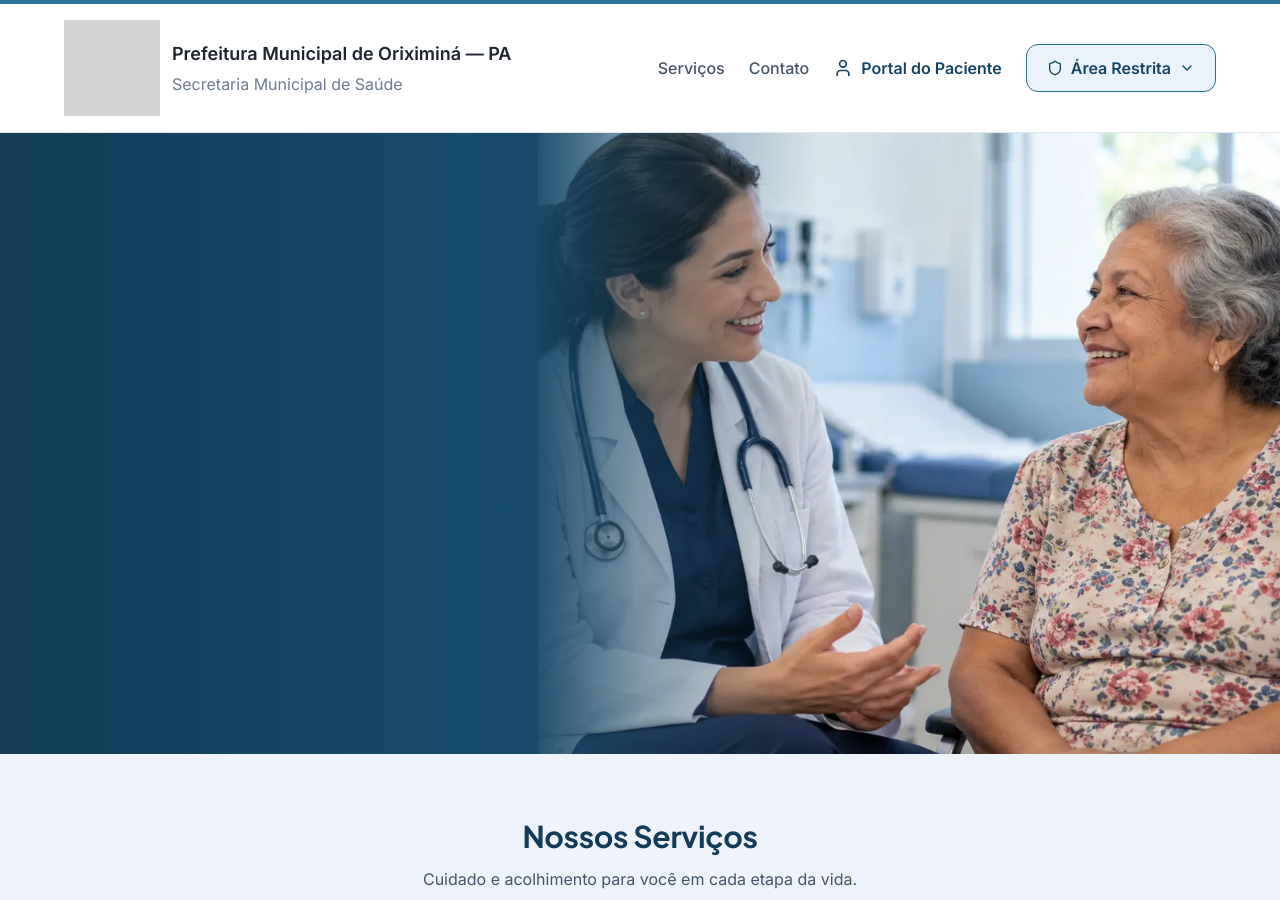
Scenario: Home navigation › opens restricted access and preserves both professional destinations
Press ArrowDown in the button "Área Restrita", box x1=1026 y1=44 x2=1216 y2=92
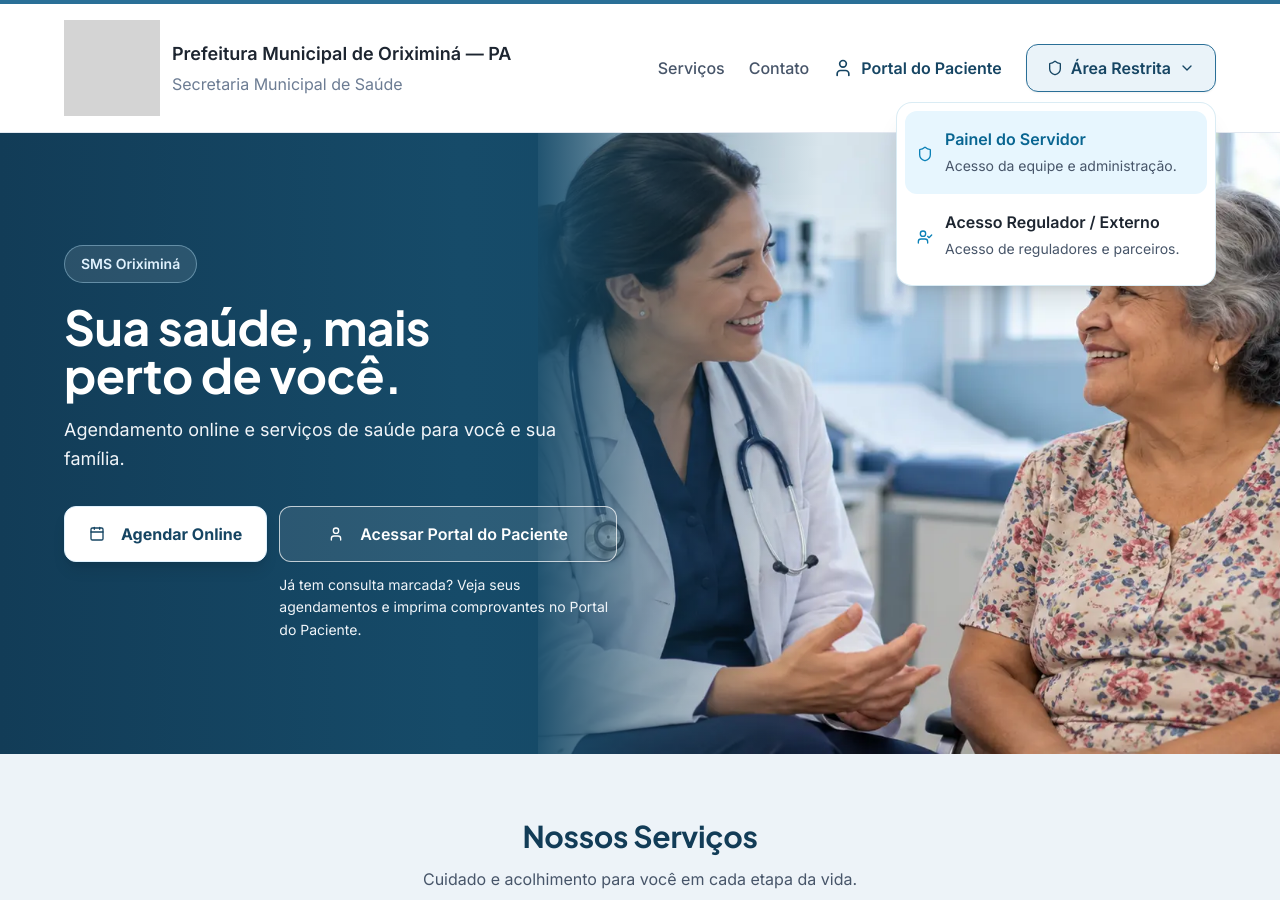
Click the menu item "Painel do Servidor".
click(1015, 139)  # box x1=905 y1=111 x2=1207 y2=194
(page scrolled)
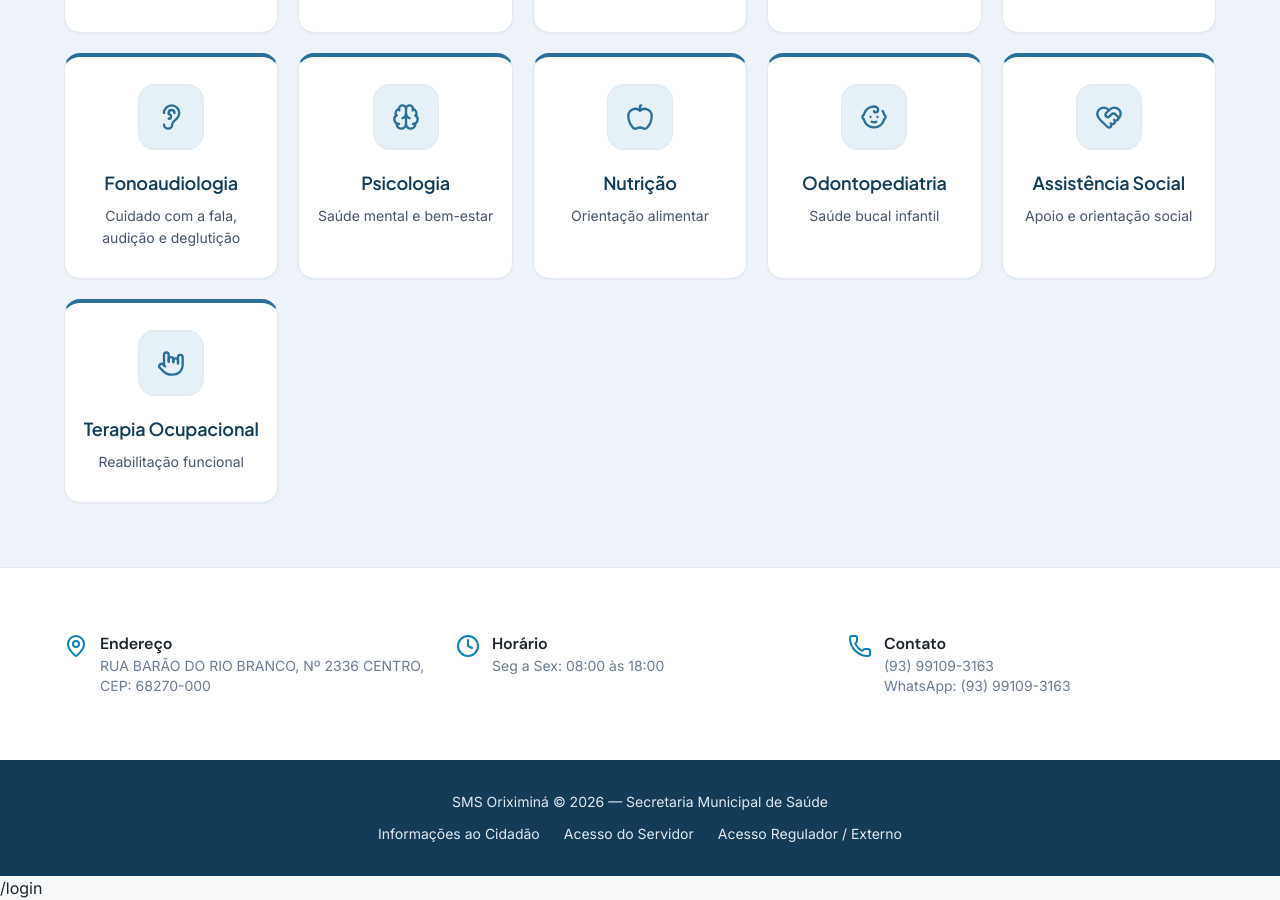
Now the text with test id "location" reads "/login", box x1=0 y1=878 x2=42 y2=898
